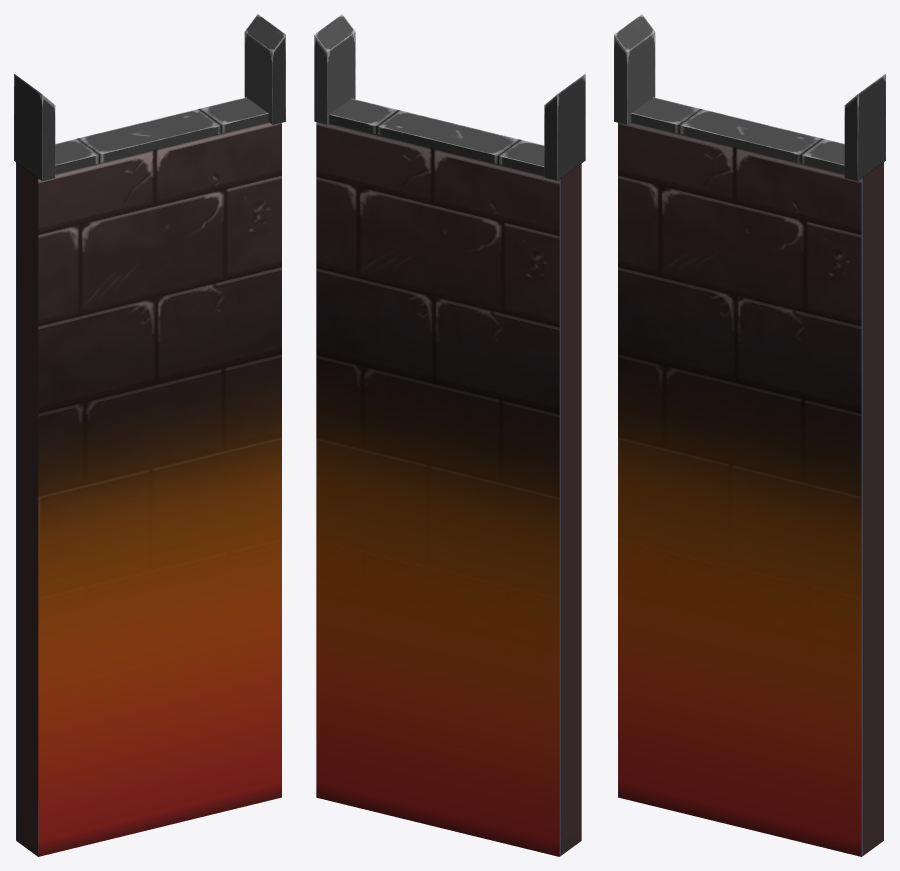
The model's file is Lava Edge.FBX.
3 views of the same model, side by side, from view 1: azimuth 30°, elevation 25°; view 2: azimuth 150°, elevation 25°; view 3: azimuth 330°, elevation 25° (orthographic).
Visible parts, largest first — view 1: outer_corner013, outer_corner_rand012; view 2: outer_corner013, outer_corner_rand012; view 3: outer_corner013, outer_corner_rand012.
Boxes of the visible parts, left/top/right/bottom form: outer_corner013: left=16, top=122, right=281, bottom=856; outer_corner_rand012: left=14, top=14, right=285, bottom=180; outer_corner013: left=316, top=122, right=581, bottom=856; outer_corner_rand012: left=314, top=14, right=585, bottom=180; outer_corner013: left=618, top=122, right=883, bottom=856; outer_corner_rand012: left=614, top=14, right=885, bottom=180.
Bounding box in the file's own units: 50.1 × 150 × 10.
